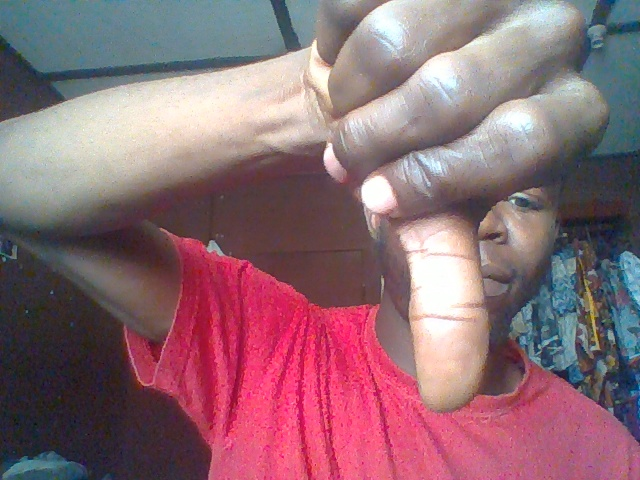Thumbdown: (297, 3, 602, 429)
